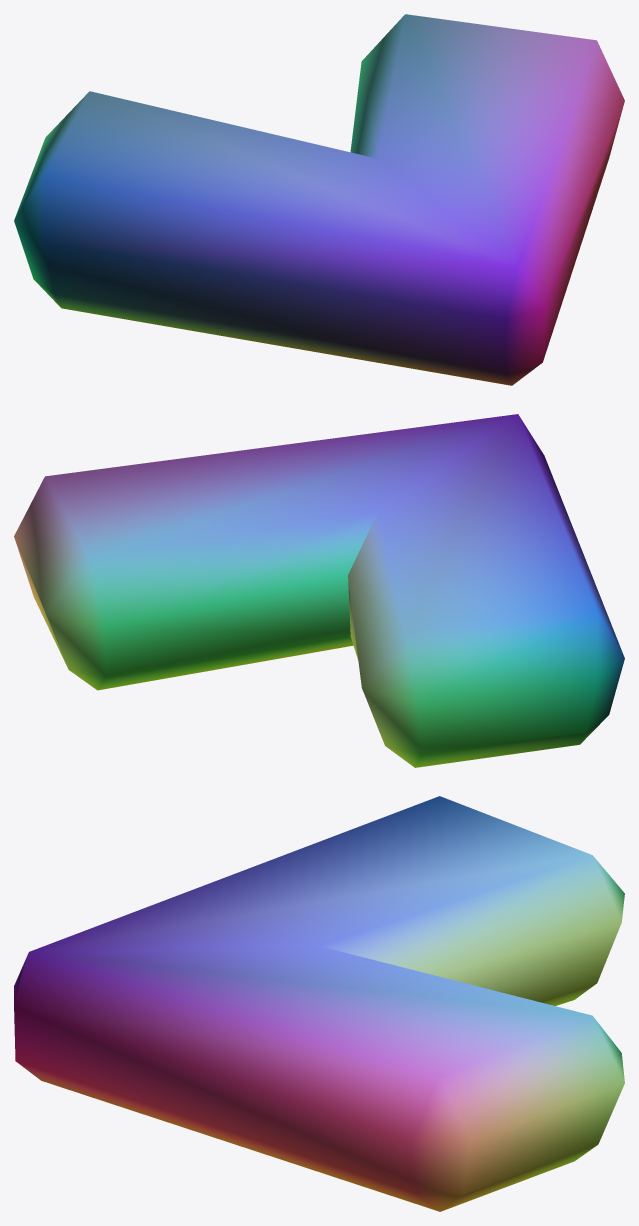
File: SM_FX_GuideArrow.fbx
3 renders of one model, top to bottom at view 1: azimuth 30°, elevation 25°; view 2: azimuth 150°, elevation 25°; view 3: azimuth 270°, elevation 25°, orthographic. The views are drawn at different scales.
Visible parts, largest first — view 1: SM_FX_GuideArrow; view 2: SM_FX_GuideArrow; view 3: SM_FX_GuideArrow.
Part boxes in pixels (<box>): SM_FX_GuideArrow: <box>14,14,624,385</box>; SM_FX_GuideArrow: <box>14,414,624,767</box>; SM_FX_GuideArrow: <box>14,796,624,1211</box>.
Size of the model in its own units: 0.3689 by 0.0856 by 0.3209.
